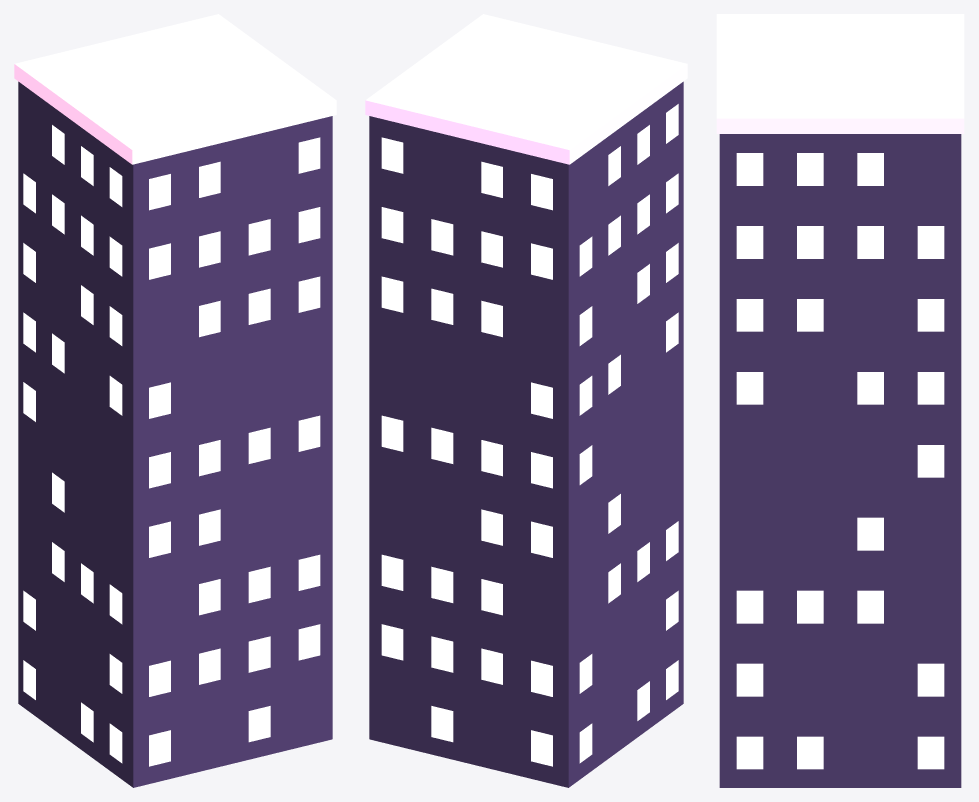
Rendered from skyline-v2-left-flat.glb.
The picture shows the model from 3 angles, left to right: view 1: azimuth 30°, elevation 25°; view 2: azimuth 150°, elevation 25°; view 3: azimuth 270°, elevation 25°; orthographic projection. The views are drawn at different scales.
Parts seen in each view (by area): view 1: skyline-v2-left-flat_0, skyline-v2-left-flat_4, skyline-v2-left-flat_1, skyline-v2-left-flat_2, skyline-v2-left-flat_3; view 2: skyline-v2-left-flat_0, skyline-v2-left-flat_4, skyline-v2-left-flat_1, skyline-v2-left-flat_2, skyline-v2-left-flat_3; view 3: skyline-v2-left-flat_0, skyline-v2-left-flat_4, skyline-v2-left-flat_1, skyline-v2-left-flat_2, skyline-v2-left-flat_3.
Part boxes in pixels (bbox=[...]): skyline-v2-left-flat_0: bbox=[18, 81, 332, 787]; skyline-v2-left-flat_4: bbox=[14, 14, 336, 164]; skyline-v2-left-flat_1: bbox=[23, 173, 320, 766]; skyline-v2-left-flat_2: bbox=[23, 125, 320, 742]; skyline-v2-left-flat_3: bbox=[23, 137, 320, 742]; skyline-v2-left-flat_0: bbox=[369, 81, 683, 787]; skyline-v2-left-flat_4: bbox=[365, 14, 687, 164]; skyline-v2-left-flat_1: bbox=[381, 173, 678, 766]; skyline-v2-left-flat_2: bbox=[381, 104, 678, 742]; skyline-v2-left-flat_3: bbox=[381, 137, 678, 720]; skyline-v2-left-flat_0: bbox=[719, 134, 961, 787]; skyline-v2-left-flat_4: bbox=[716, 14, 964, 133]; skyline-v2-left-flat_1: bbox=[736, 226, 944, 769]; skyline-v2-left-flat_2: bbox=[736, 153, 944, 477]; skyline-v2-left-flat_3: bbox=[736, 226, 944, 769].
Bounding box in the file's own units: 2.06 × 6.13 × 2.06.
